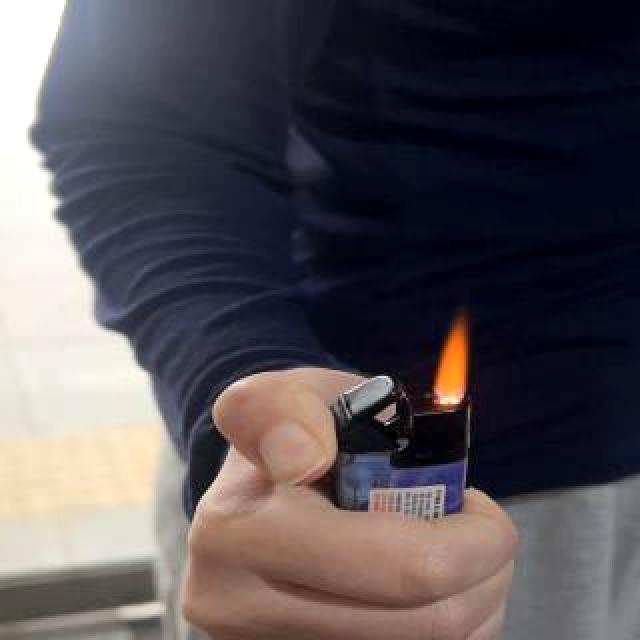fire: (429, 324, 475, 400)
